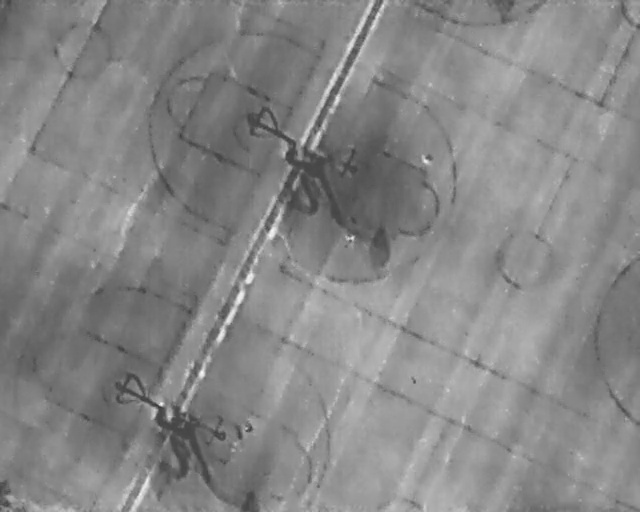Person: (422, 152, 434, 166), (345, 230, 355, 246)
